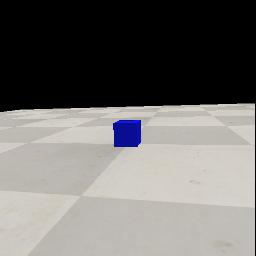box: (113, 120, 141, 147)
